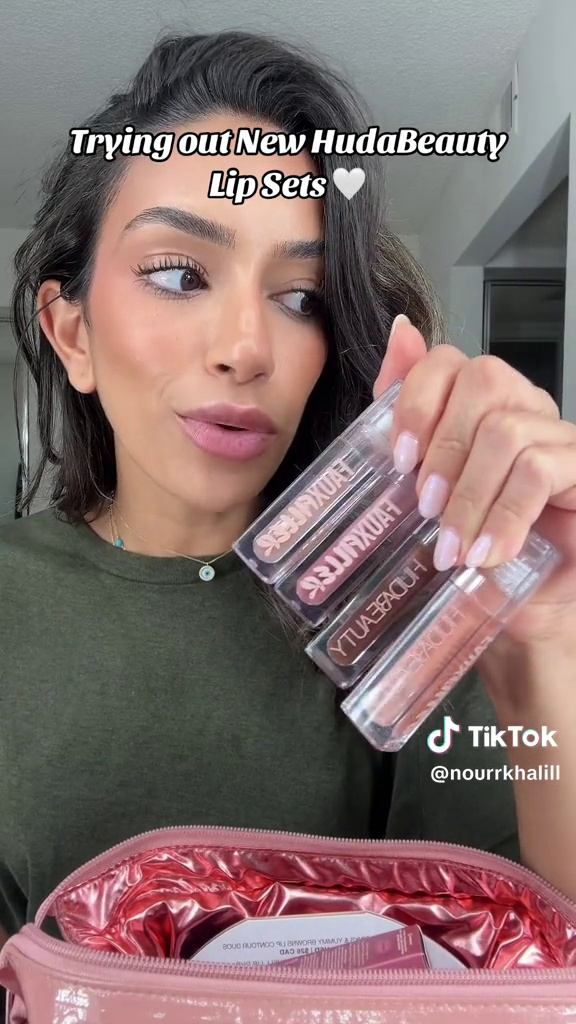train' :'yolo_data/train/images',: (226, 365, 564, 765)
